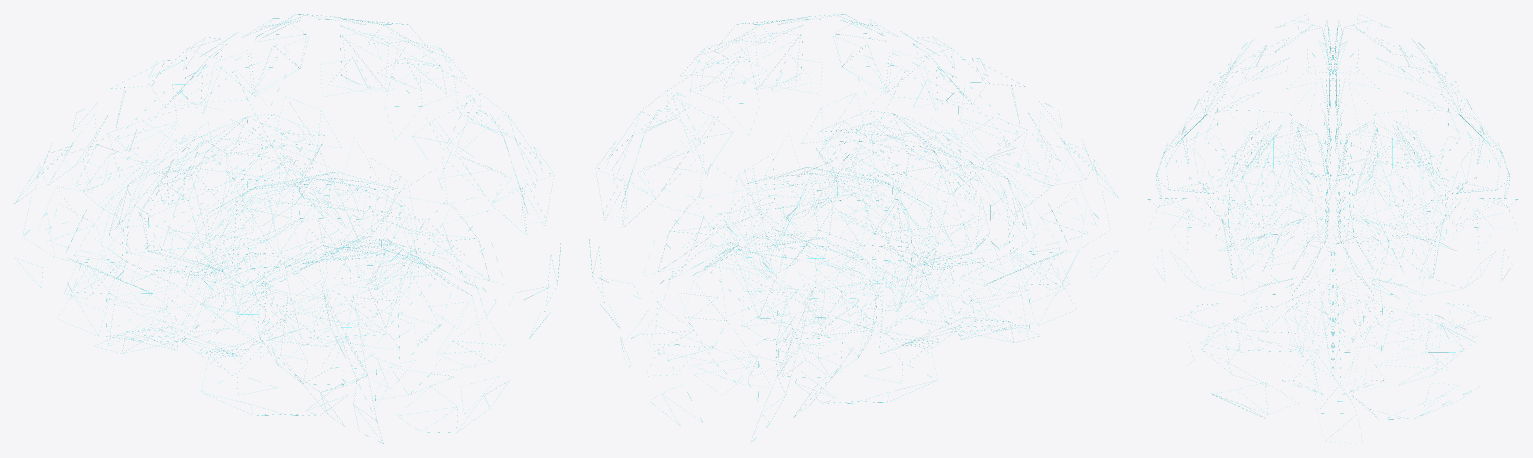
The model's file is brain.glb.
3 renders of one model, left to right at view 1: azimuth 30°, elevation 25°; view 2: azimuth 150°, elevation 25°; view 3: azimuth 270°, elevation 25°, orthographic. The views are drawn at different scales.
Parts seen in each view (by area): view 1: BRAIN; view 2: BRAIN; view 3: BRAIN.
Part boxes in pixels (left/top/right/bottom): BRAIN: left=14, top=14, right=560, bottom=443; BRAIN: left=589, top=14, right=1117, bottom=440; BRAIN: left=1148, top=15, right=1517, bottom=443.
Size of the model in its own units: 211 by 179 by 167.
